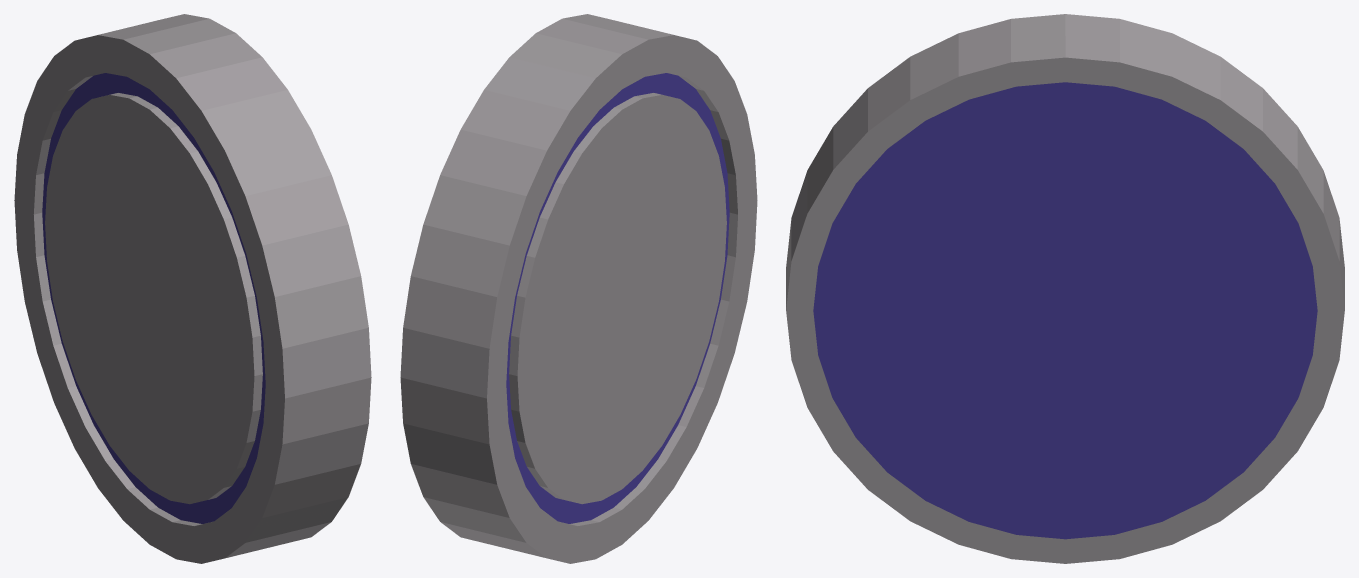
Rendered from BotonTest.fbx.
3 renders of one model, left to right at view 1: azimuth 30°, elevation 25°; view 2: azimuth 150°, elevation 25°; view 3: azimuth 270°, elevation 25°, orthographic. The views are drawn at different scales.
Parts seen in each view (by area): view 1: Cylinder.001; view 2: Cylinder.001; view 3: Cylinder.001.
Part boxes in pixels (left/top/right/bottom): Cylinder.001: left=14, top=14, right=371, bottom=563; Cylinder.001: left=400, top=14, right=757, bottom=563; Cylinder.001: left=786, top=14, right=1344, bottom=563.
Size of the model in its own units: 1.81 by 9.8 by 9.8.
